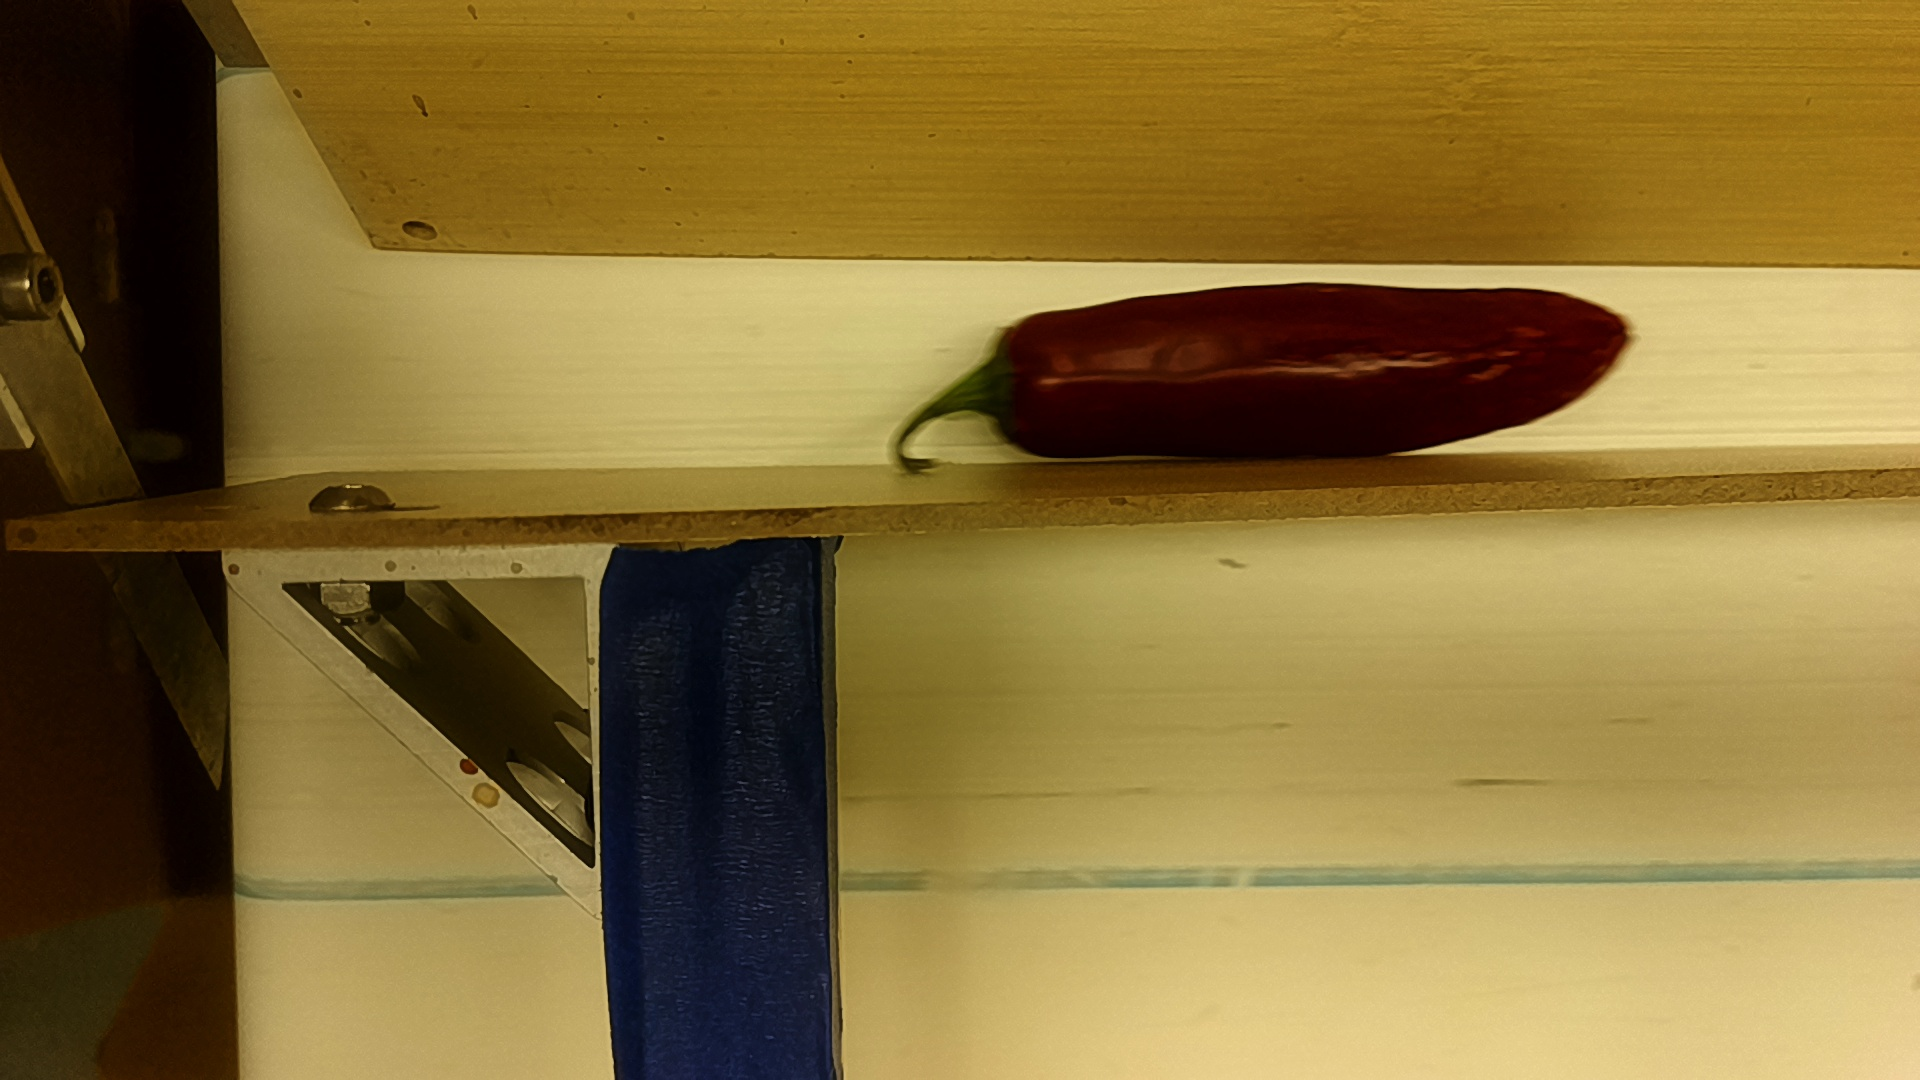Cut Point: (978, 309, 1051, 464)
